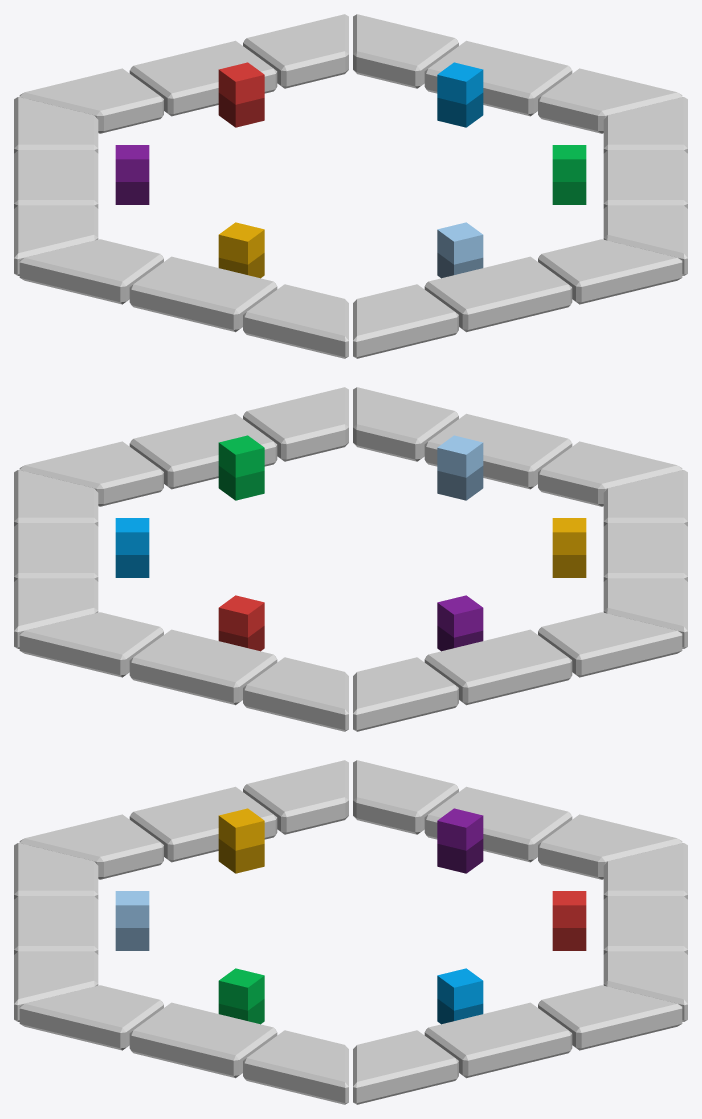
The model's file is tiles.glb.
3 views of the same model, one above another, from view 1: azimuth 30°, elevation 25°; view 2: azimuth 150°, elevation 25°; view 3: azimuth 270°, elevation 25° (orthographic).
Parts seen in each view (by area): view 1: Tile Type B (×6), Tile Type A (×6), Tile Type C (×6), TopTileMaterial.000, TopTileMaterial.003, TopTileMaterial.005, TopTileMaterial.002, TopTileMaterial.004, TopTileMaterial.001, BaseTileMaterial.003, BaseTileMaterial.002, BaseTileMaterial.004 (+3 smaller); view 2: Tile Type B (×6), Tile Type A (×6), Tile Type C (×6), TopTileMaterial.000, TopTileMaterial.004, TopTileMaterial.003, TopTileMaterial.001, TopTileMaterial.005, TopTileMaterial.002, BaseTileMaterial.001, BaseTileMaterial.000, BaseTileMaterial.005 (+3 smaller); view 3: Tile Type B (×6), Tile Type A (×6), Tile Type C (×6), TopTileMaterial.004, TopTileMaterial.005, TopTileMaterial.002, TopTileMaterial.001, TopTileMaterial.000, TopTileMaterial.003, BaseTileMaterial.004, BaseTileMaterial.005, BaseTileMaterial.003 (+3 smaller).
Part boxes in pixels (x1,y1,x2,y2): Tile Type B (×6): [14, 40, 687, 332]; Tile Type A (×6): [14, 14, 687, 358]; Tile Type C (×6): [14, 14, 687, 358]; TopTileMaterial.000: [437, 222, 483, 264]; TopTileMaterial.003: [218, 62, 264, 104]; TopTileMaterial.005: [218, 222, 264, 264]; TopTileMaterial.002: [437, 62, 483, 104]; TopTileMaterial.004: [115, 145, 149, 181]; TopTileMaterial.001: [552, 145, 586, 181]; BaseTileMaterial.003: [218, 93, 264, 127]; BaseTileMaterial.002: [437, 93, 483, 127]; BaseTileMaterial.004: [115, 182, 149, 204]; Tile Type B (×6): [14, 413, 687, 705]; Tile Type A (×6): [14, 387, 687, 731]; Tile Type C (×6): [14, 387, 687, 731]; TopTileMaterial.000: [437, 435, 483, 477]; TopTileMaterial.004: [437, 595, 483, 637]; TopTileMaterial.003: [218, 595, 264, 637]; TopTileMaterial.001: [218, 435, 264, 477]; TopTileMaterial.005: [552, 518, 586, 554]; TopTileMaterial.002: [115, 518, 149, 554]; BaseTileMaterial.001: [218, 466, 264, 500]; BaseTileMaterial.000: [437, 466, 483, 500]; BaseTileMaterial.005: [552, 555, 586, 577]; Tile Type B (×6): [14, 786, 687, 1078]; Tile Type A (×6): [14, 760, 687, 1104]; Tile Type C (×6): [14, 760, 687, 1104]; TopTileMaterial.004: [437, 808, 483, 850]; TopTileMaterial.005: [218, 808, 264, 850]; TopTileMaterial.002: [437, 968, 483, 1010]; TopTileMaterial.001: [218, 968, 264, 1010]; TopTileMaterial.000: [115, 891, 149, 927]; TopTileMaterial.003: [552, 891, 586, 927]; BaseTileMaterial.004: [437, 839, 483, 873]; BaseTileMaterial.005: [218, 839, 264, 873]; BaseTileMaterial.003: [552, 928, 586, 950].
Size of the model in its own units: 1.83 by 0.12 by 1.6.
